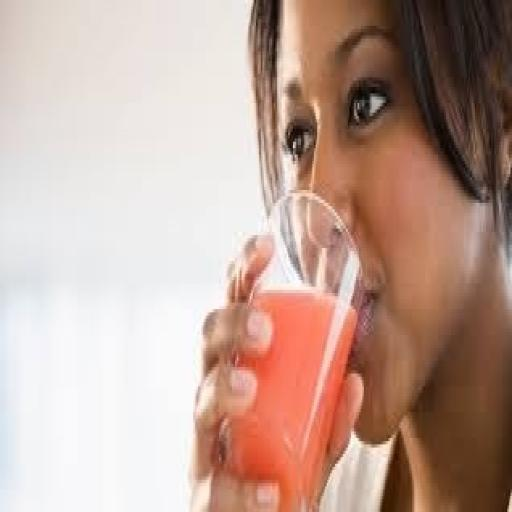drinking: (212, 190, 368, 509)
